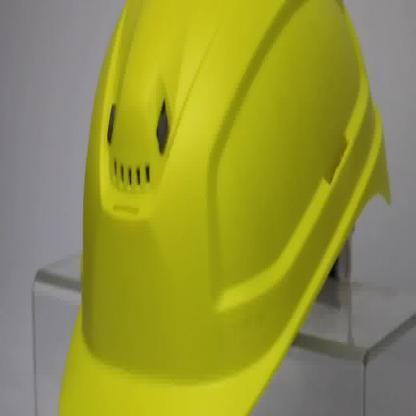helmet: (58, 2, 392, 416)
